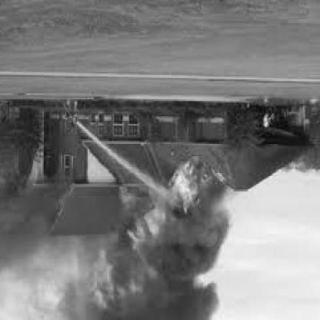Fire: (167, 159, 231, 219)
Smoke: (12, 211, 65, 299)
